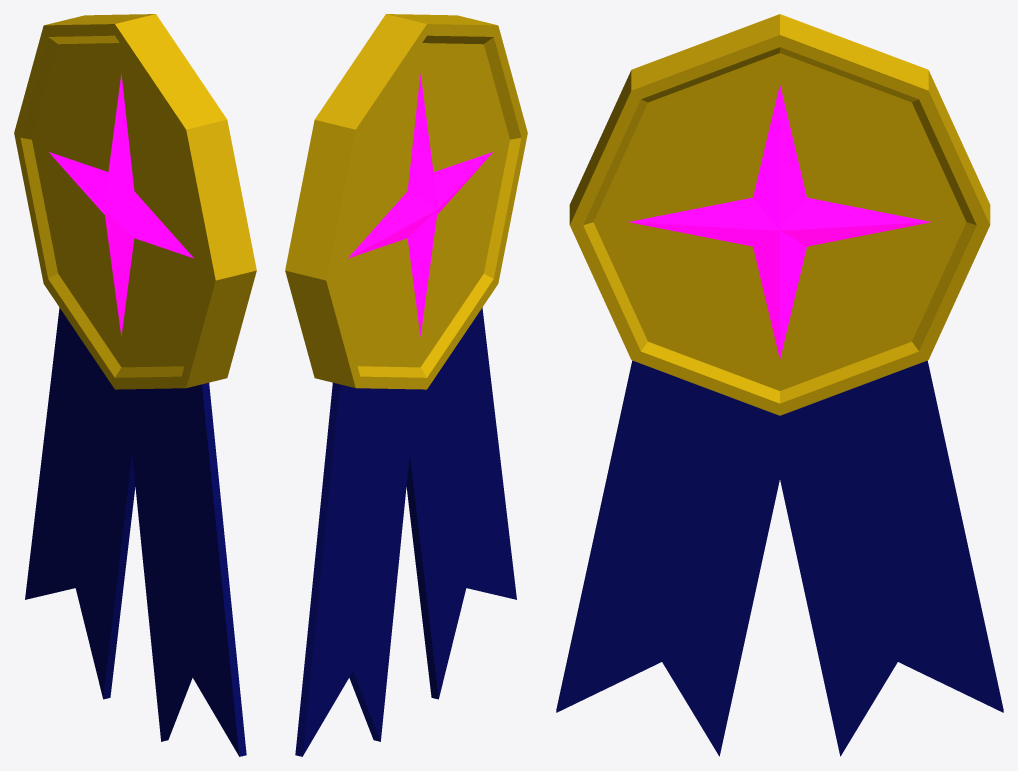
Rendered from metal.fbx.
The picture shows the model from 3 angles, left to right: view 1: azimuth 30°, elevation 25°; view 2: azimuth 150°, elevation 25°; view 3: azimuth 270°, elevation 25°; orthographic projection. The views are drawn at different scales.
Visible parts, largest first — view 1: Cylinder.001; view 2: Cylinder.001; view 3: Cylinder.001.
Boxes of the visible parts, x1=… form: Cylinder.001: x1=14, y1=14, x2=256, y2=756; Cylinder.001: x1=285, y1=14, x2=527, y2=756; Cylinder.001: x1=556, y1=14, x2=1003, y2=756.
Size of the model in its own units: 35.94 by 384 by 213.
